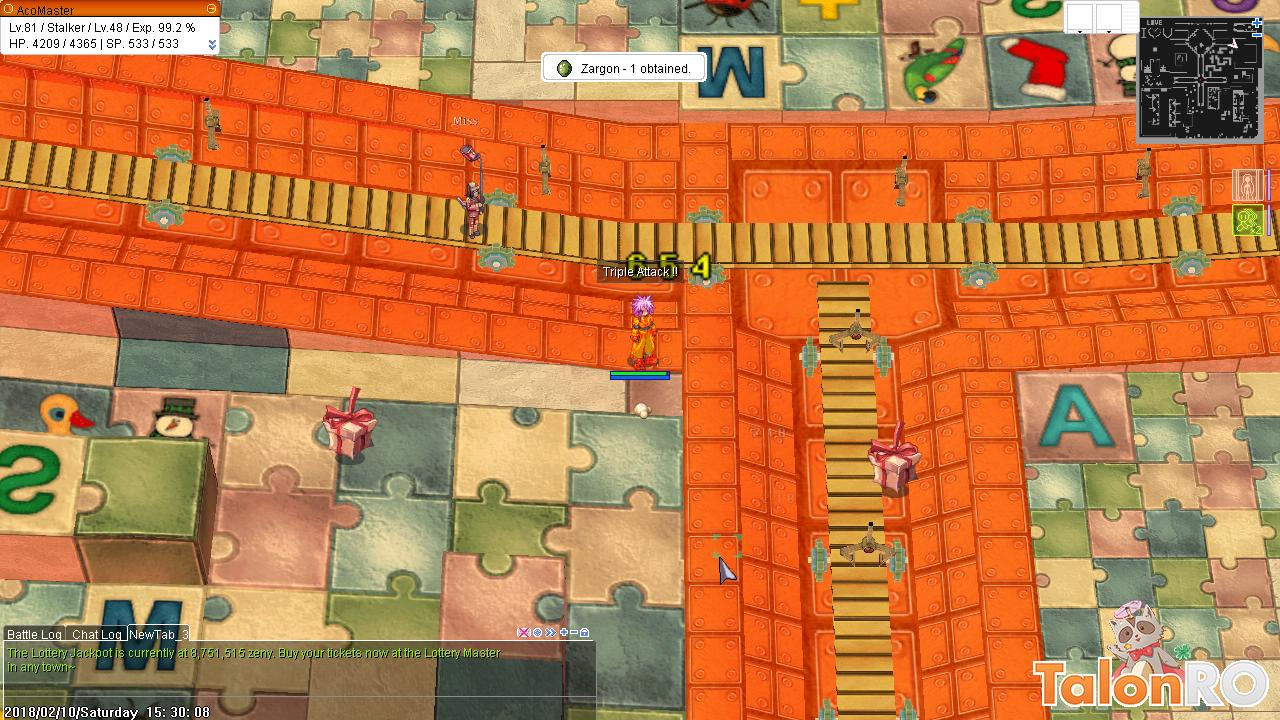loot: (627, 396, 655, 423)
mob: (450, 138, 493, 243)
myst_case: (319, 381, 381, 464), (867, 418, 927, 496)
